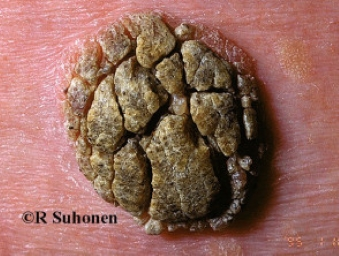seborrheic keratosis: (50, 16, 296, 207)
